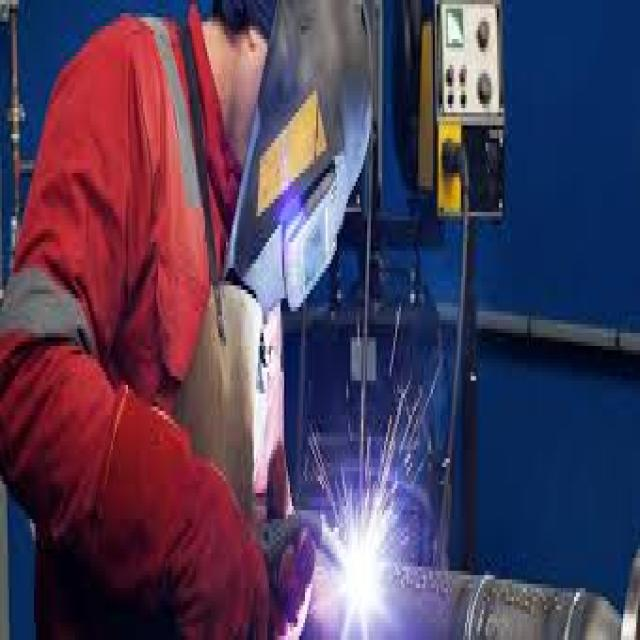welding: (339, 526, 379, 610)
